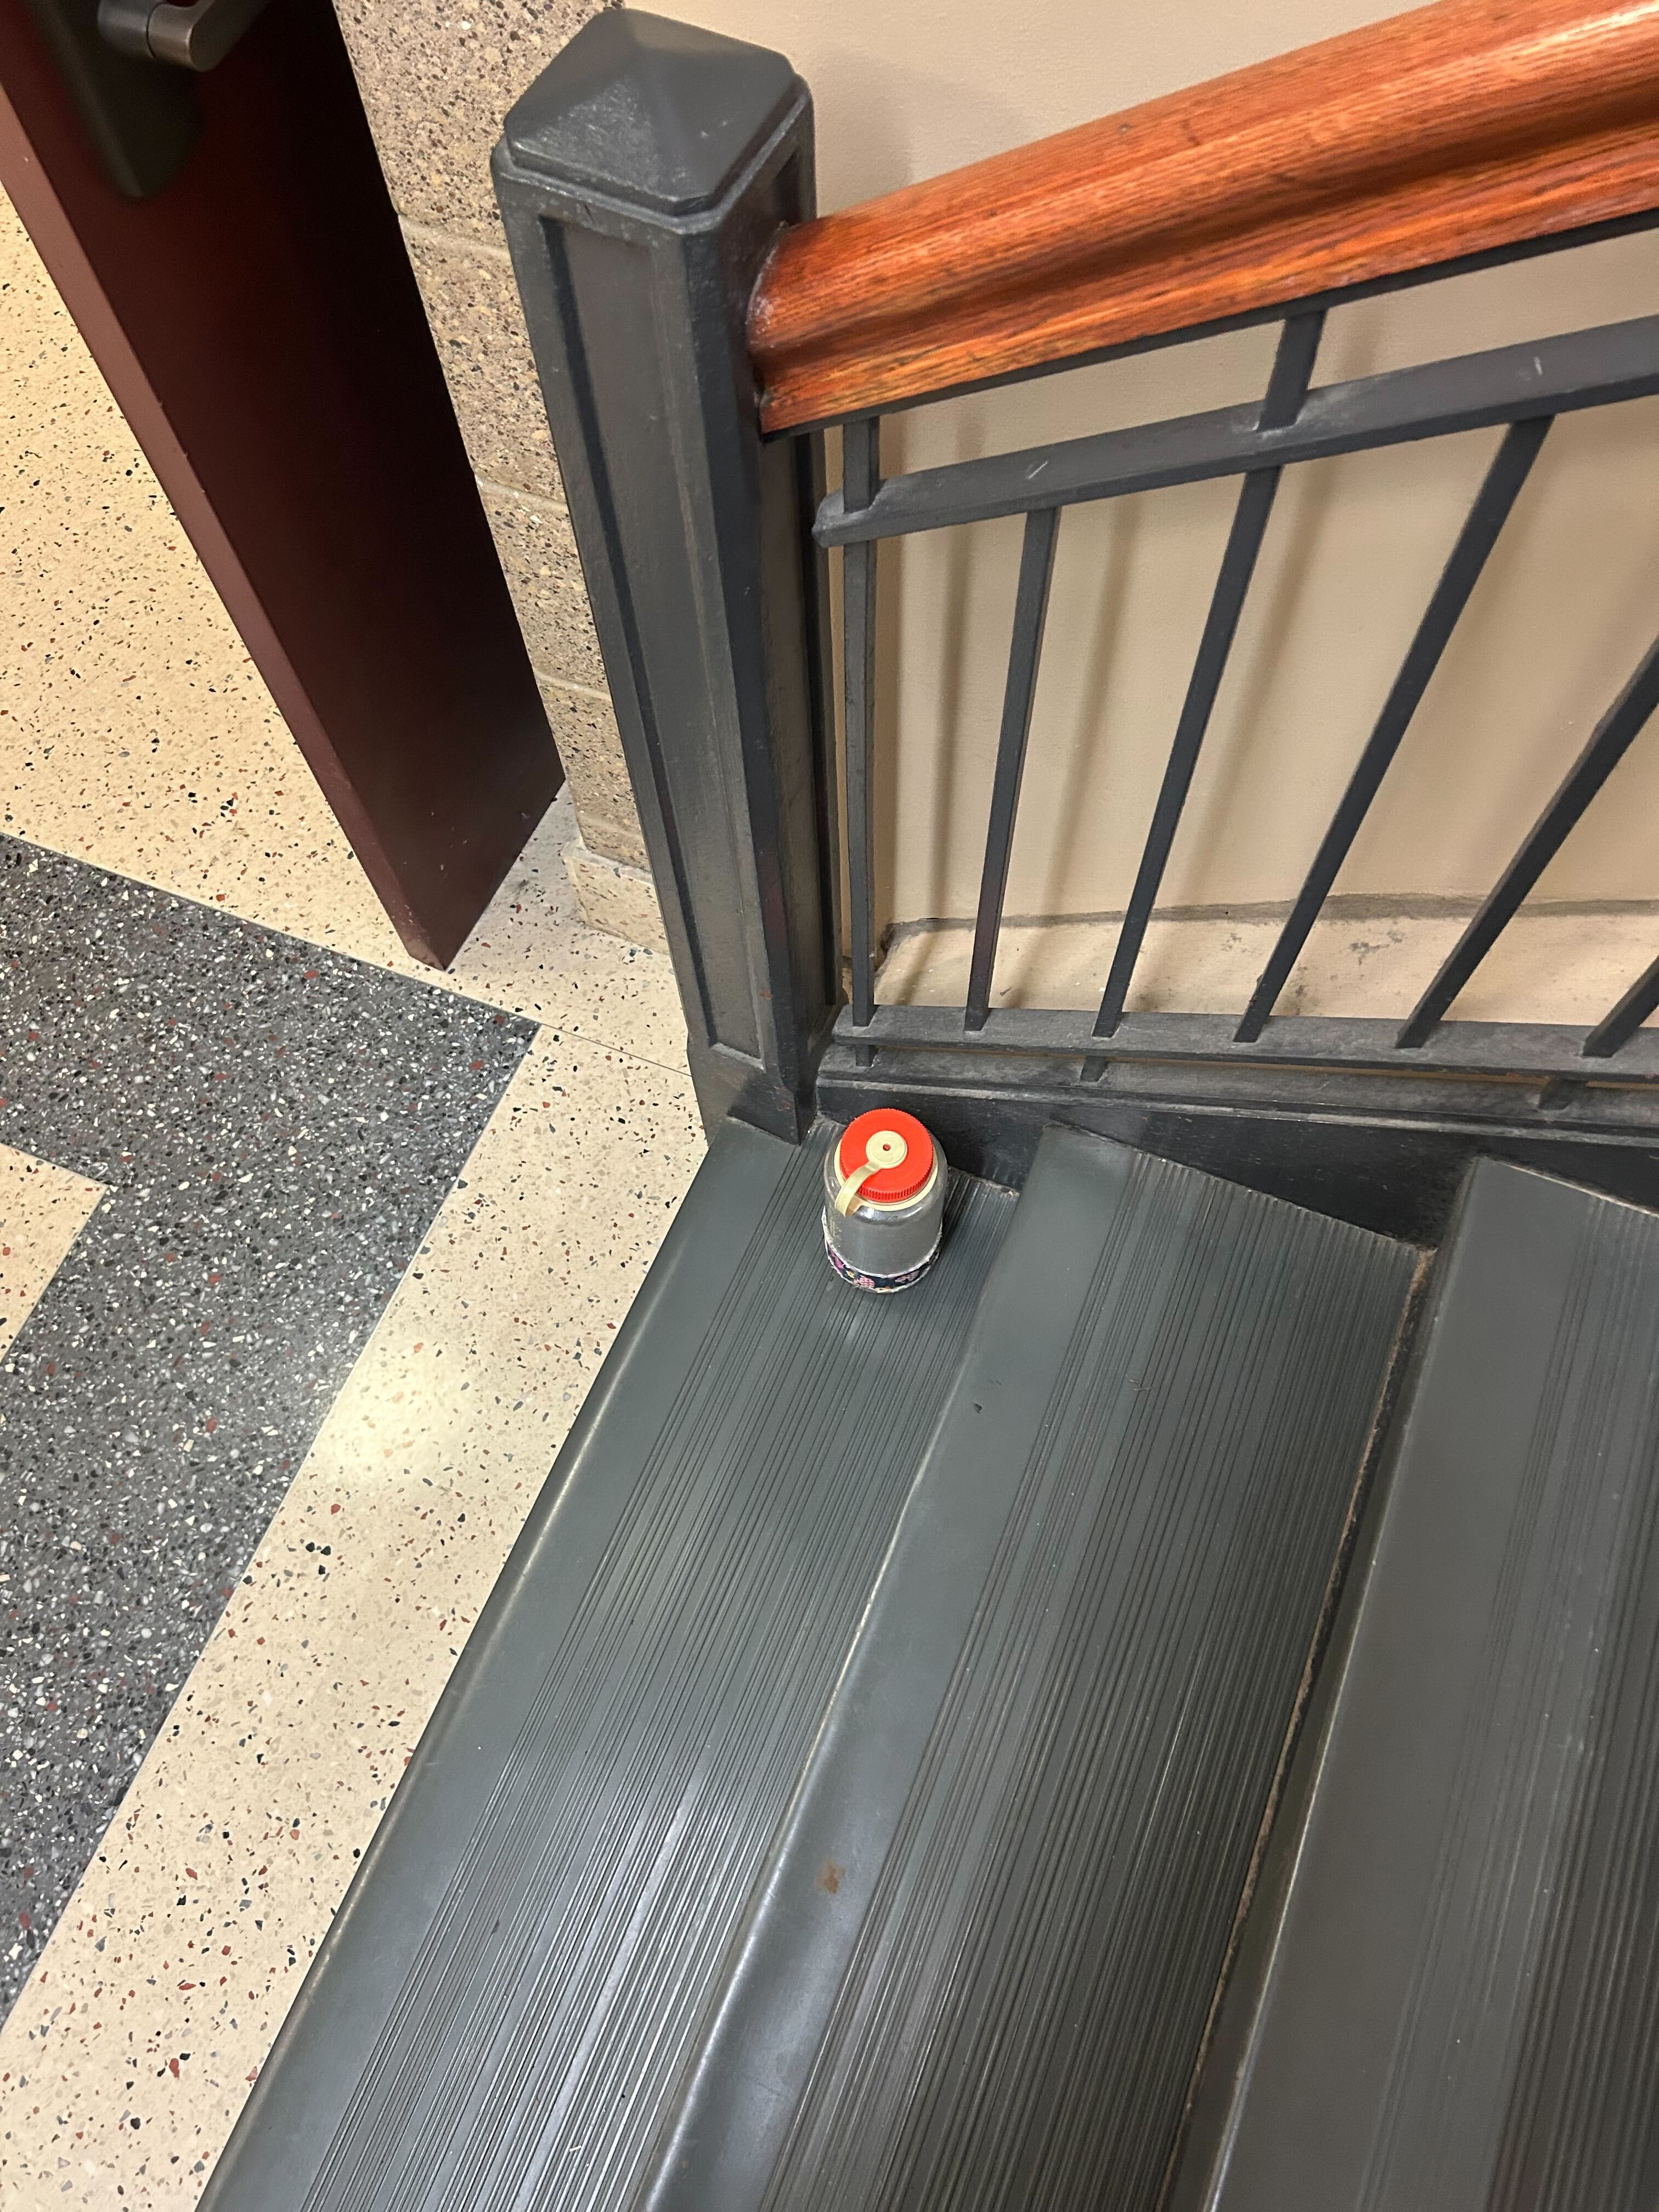bottle: (819, 1094, 951, 1303)
